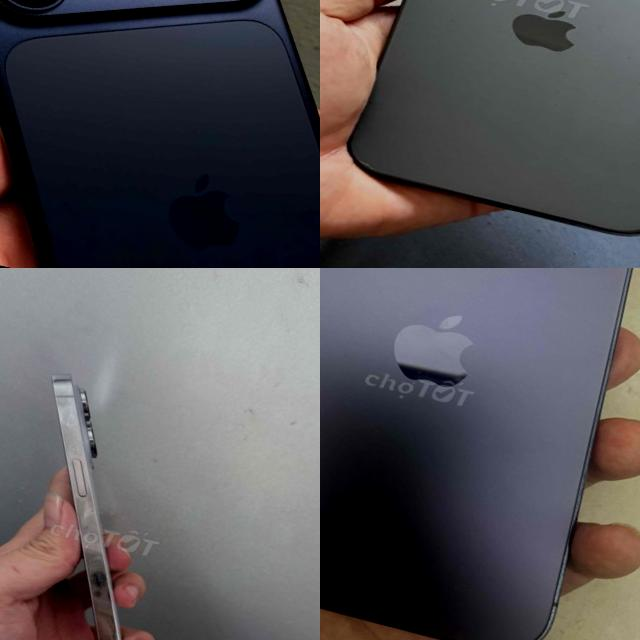gen_14: (320, 268, 640, 640), (337, 0, 640, 253), (0, 350, 225, 640)
gen_17: (0, 0, 320, 268)
scratch: (73, 538, 124, 596), (88, 613, 138, 640)
